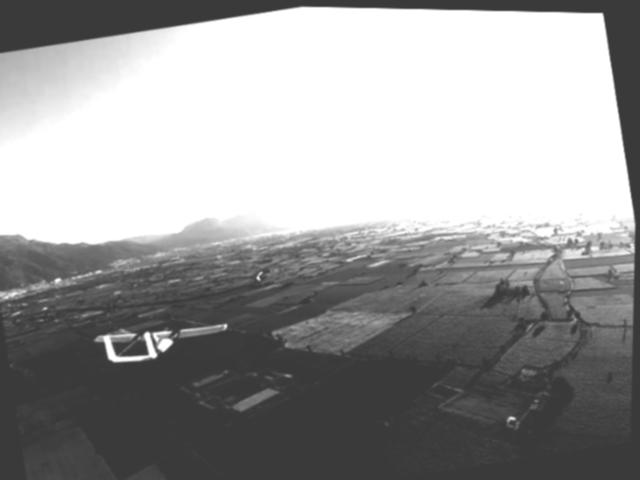hedef: (85, 300, 237, 381)
